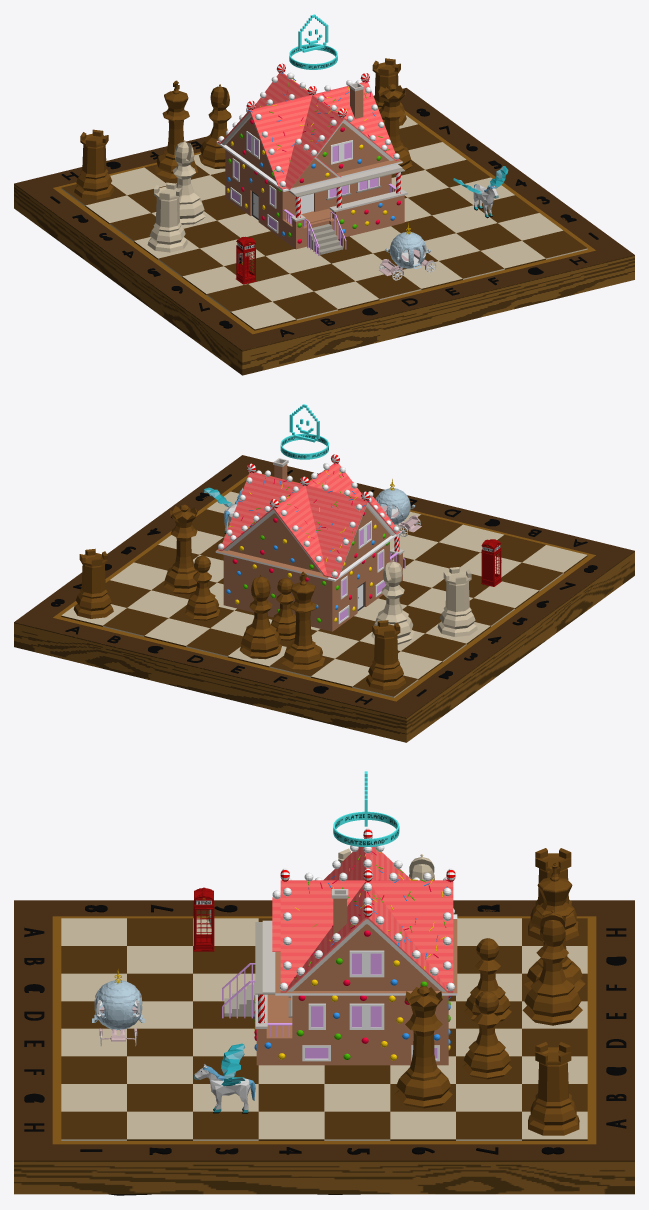
3 renders of one model, top to bottom at view 1: azimuth 30°, elevation 25°; view 2: azimuth 150°, elevation 25°; view 3: azimuth 270°, elevation 25°, orthographic. The views are drawn at different scales.
Parts seen in each view (by area): view 1: Cube.002, Cube.1203, VEHICLES_FANTASY_CARRIAGE, TYPE_PREMIUM, ANIMAL_PEGASO, OBJRANDOM_PHONEBOOTH; view 2: Cube.002, Cube.1203, VEHICLES_FANTASY_CARRIAGE, TYPE_PREMIUM, OBJRANDOM_PHONEBOOTH; view 3: Cube.002, Cube.1203, VEHICLES_FANTASY_CARRIAGE, ANIMAL_PEGASO, TYPE_PREMIUM, OBJRANDOM_PHONEBOOTH.
Part boxes in pixels (x1,y1,x2,y2): Cube.002: (14, 58, 634, 375); Cube.1203: (216, 63, 407, 255); VEHICLES_FANTASY_CARRIAGE: (379, 223, 436, 280); TYPE_PREMIUM: (289, 14, 337, 69); ANIMAL_PEGASO: (453, 166, 508, 218); OBJRANDOM_PHONEBOOTH: (236, 236, 256, 284); Cube.002: (14, 455, 634, 742); Cube.1203: (215, 454, 405, 631); VEHICLES_FANTASY_CARRIAGE: (375, 479, 421, 536); TYPE_PREMIUM: (280, 404, 328, 459); OBJRANDOM_PHONEBOOTH: (481, 539, 501, 586); Cube.002: (14, 848, 634, 1194); Cube.1203: (222, 828, 457, 1065); VEHICLES_FANTASY_CARRIAGE: (92, 969, 144, 1046); ANIMAL_PEGASO: (194, 1043, 255, 1113); TYPE_PREMIUM: (333, 771, 399, 846); OBJRANDOM_PHONEBOOTH: (193, 887, 214, 951).
Bounding box in the file's own units: 3981 × 2151 × 4012.
48 materials, 4 textured.
